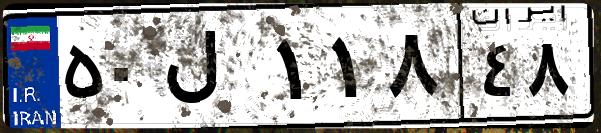0: (110, 28, 158, 98)
1: (270, 28, 330, 110), (330, 28, 385, 110)
4: (475, 38, 525, 113)
5: (57, 26, 110, 100)
8: (385, 28, 445, 110), (525, 38, 570, 115)
ل: (158, 20, 270, 120)
